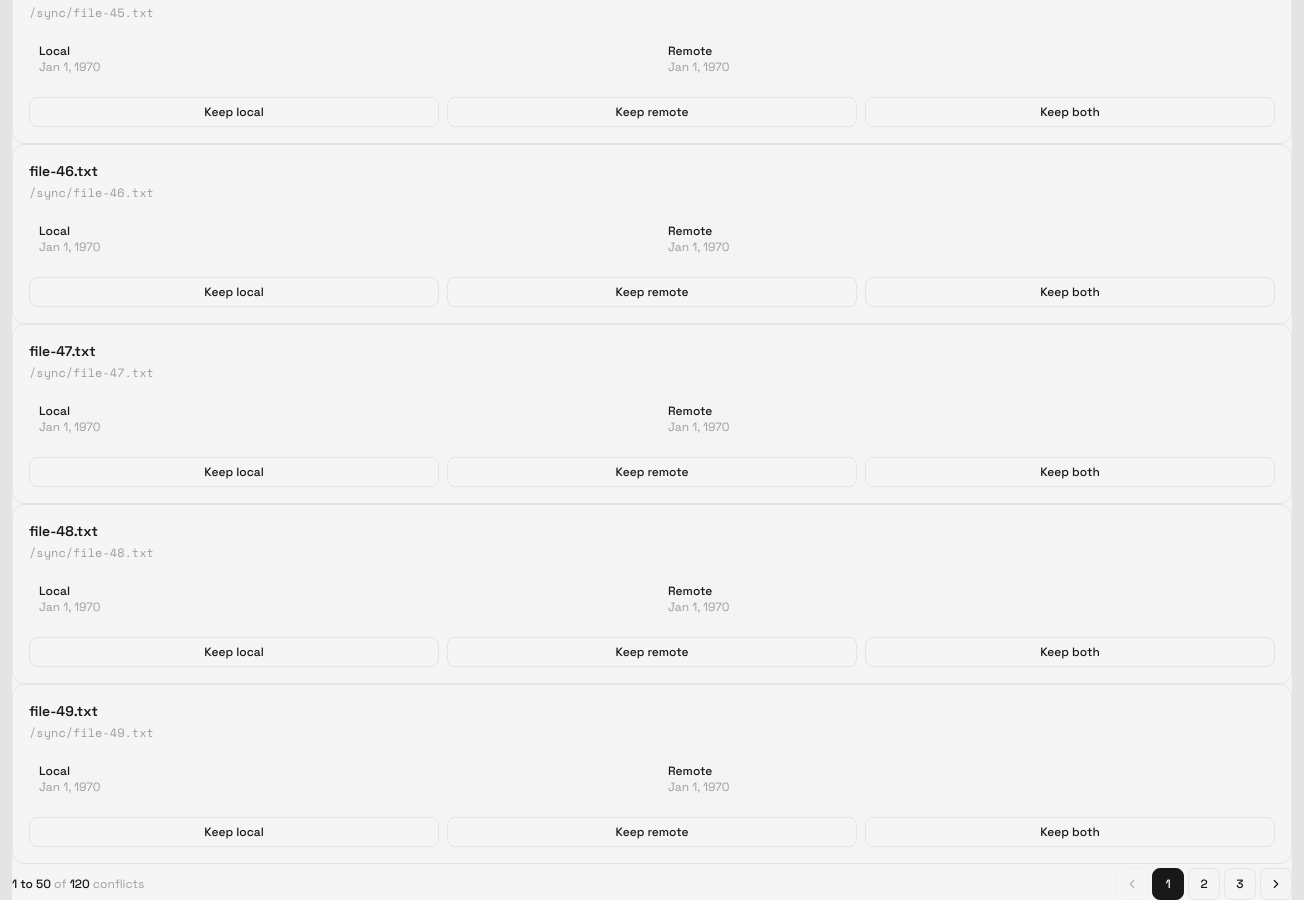
Test: ConflictList › falls back to the last real page when resolving shrinks the list
(page scrolled)
Click the button "3". click: (1240, 884)
box: x1=1224 y1=868 x2=1256 y2=899
(page scrolled)
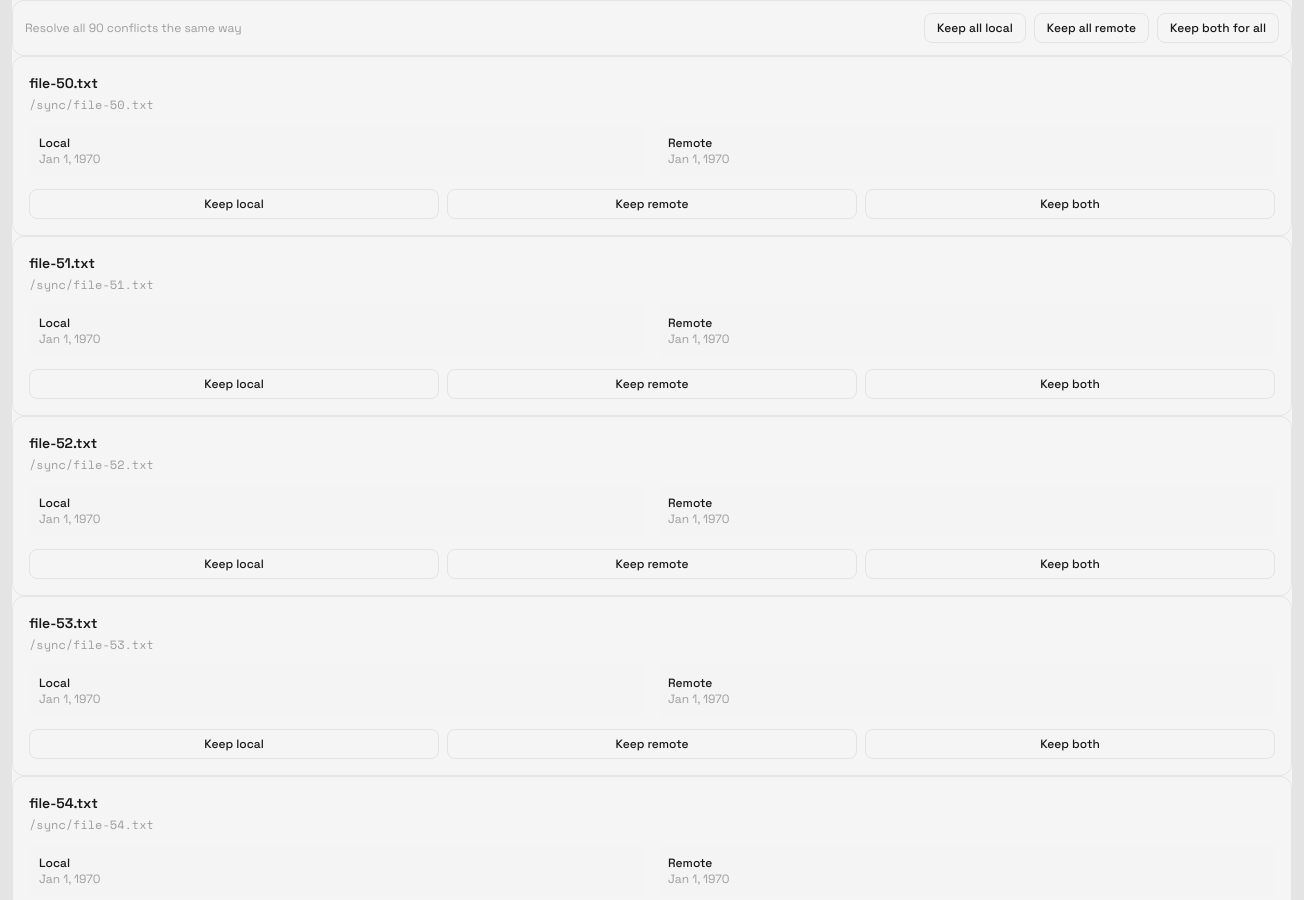
Check: the text with class "font-semibold" reads "file-50.txt", box x1=29 y1=74 x2=98 y2=92
